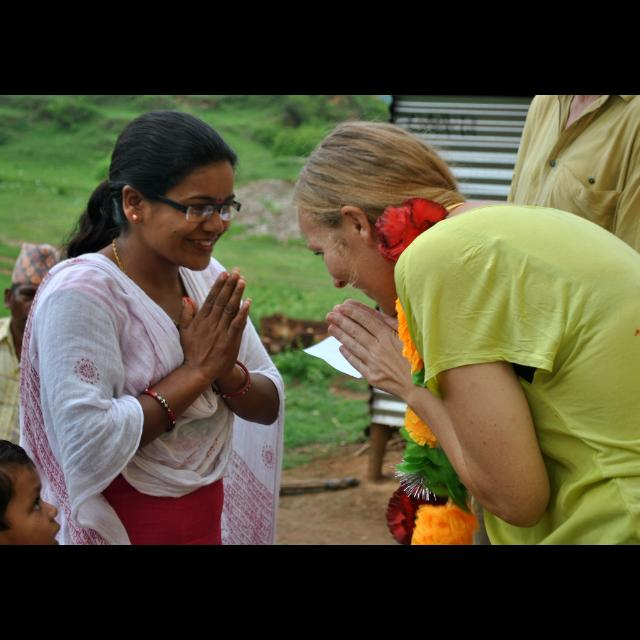Flower: (368, 193, 452, 385), (387, 406, 475, 544)
